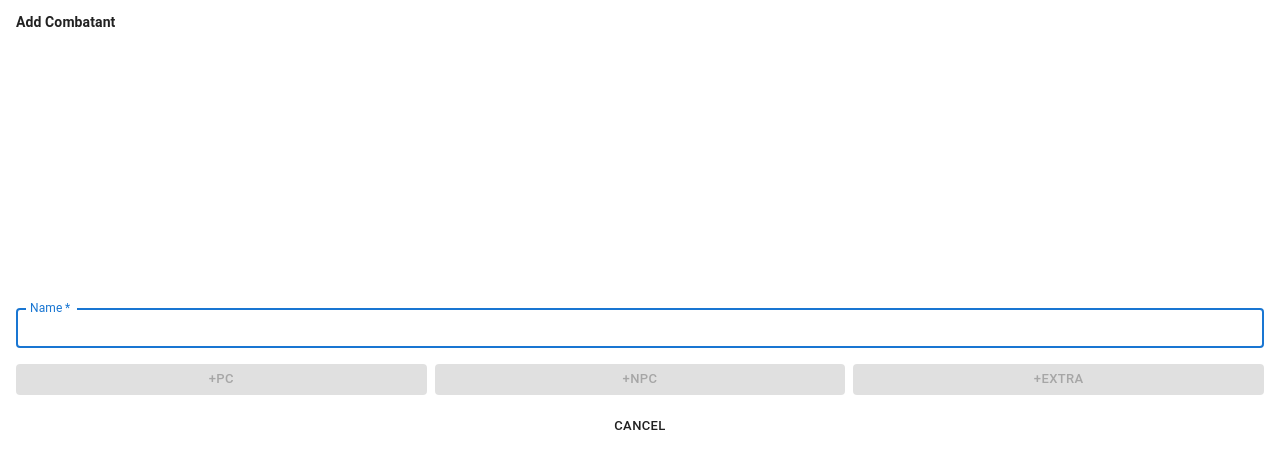
Test: saveChanges › Add Combatant: Try again saves the combatant and closes the modal
Later steps or results of the test are not shown.
Type "Goblin" into the field labelled "Name *" at (640, 328), box x1=16 y1=308 x2=1264 y2=348
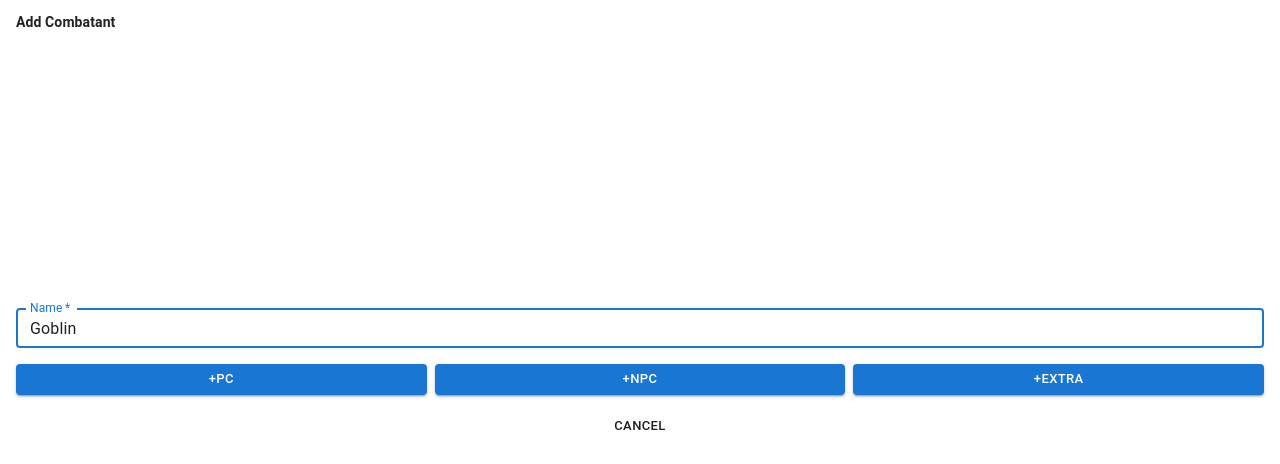
Click the button "+NPC" at (640, 380), box x1=435 y1=364 x2=845 y2=395
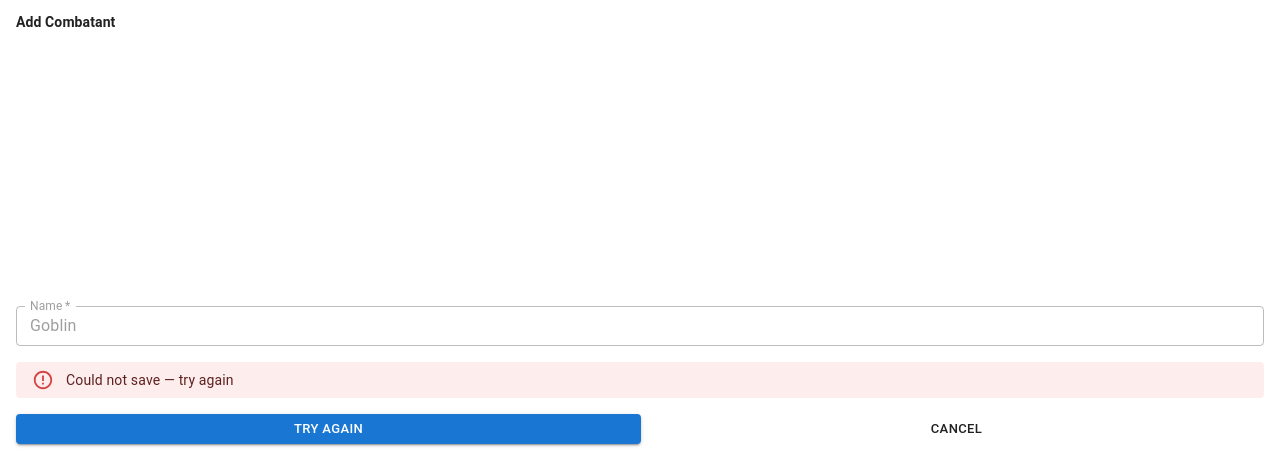
Check: the message shows "Could not save", box x1=66 y1=372 x2=234 y2=388
